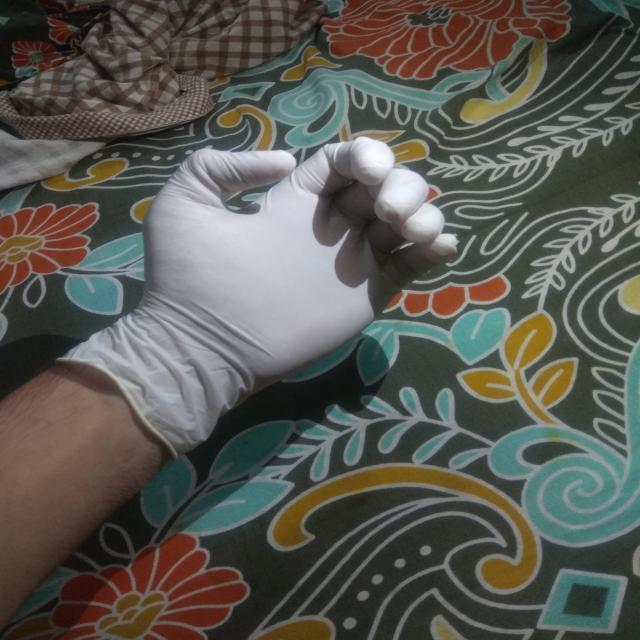glove_hand: (52, 130, 464, 468)
